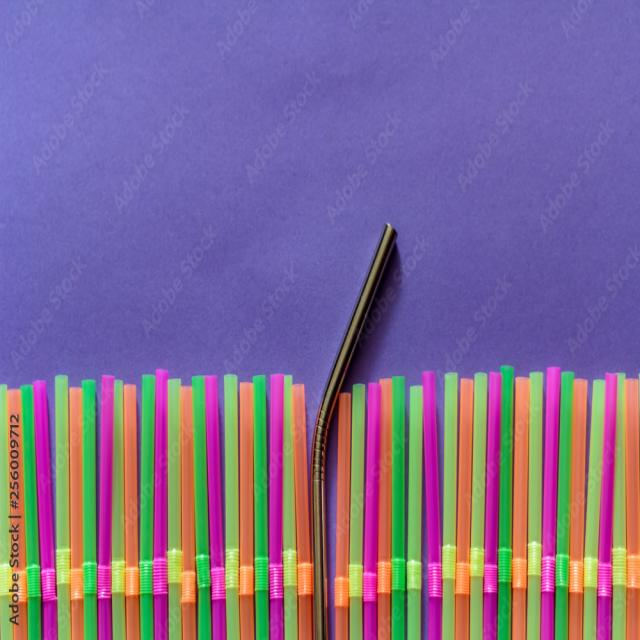plastic: (542, 347, 561, 640)
